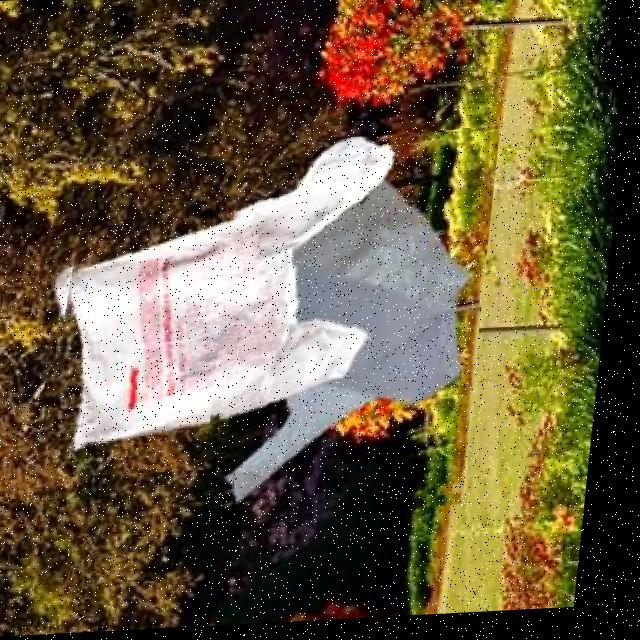litter: (47, 145, 413, 478), (209, 134, 503, 530)
